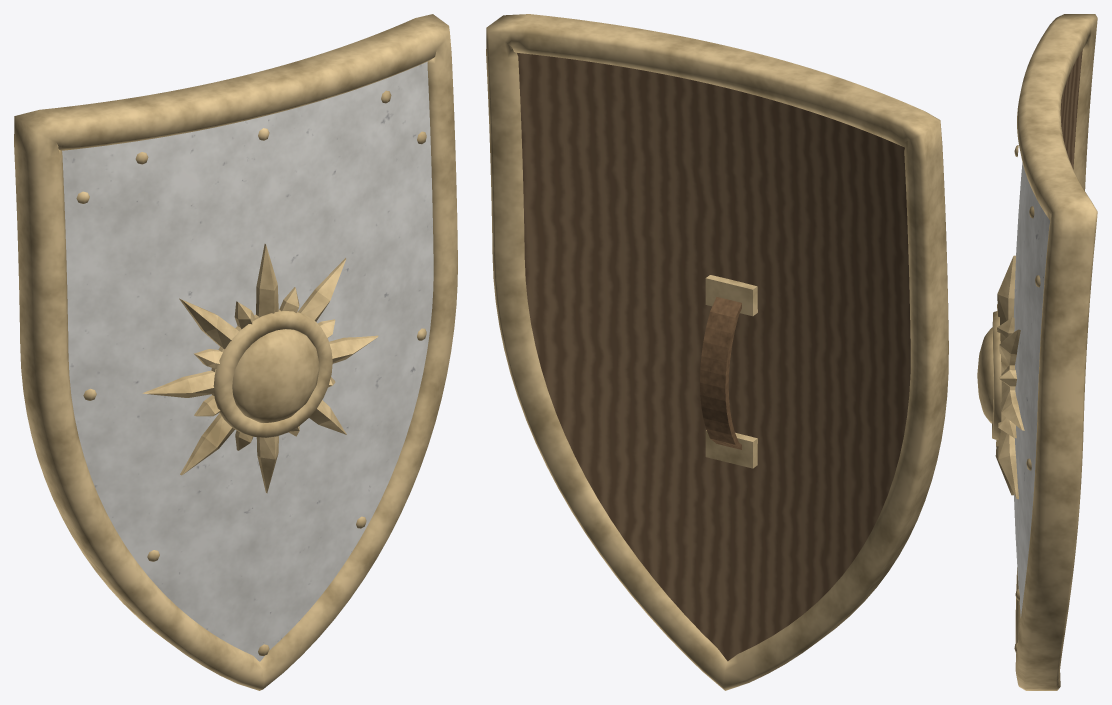
File: human_shield.glb
3 views of the same model, side by side, from view 1: azimuth 30°, elevation 25°; view 2: azimuth 150°, elevation 25°; view 3: azimuth 270°, elevation 25° (orthographic). The views are drawn at different scales.
Visible parts, largest first — view 1: human_shield; view 2: human_shield; view 3: human_shield.
Part boxes in pixels (x1,y1,x2,y2): human_shield: (14,14,457,690); human_shield: (486,14,948,690); human_shield: (977,14,1097,690).
Bounding box in the file's own units: 0.604 × 0.8263 × 0.155.
1 material, 1 textured.
